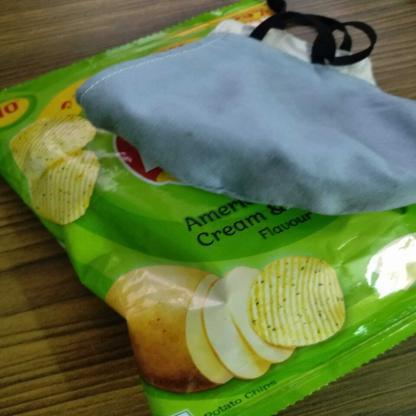cream_and_onion: (7, 54, 411, 411)
